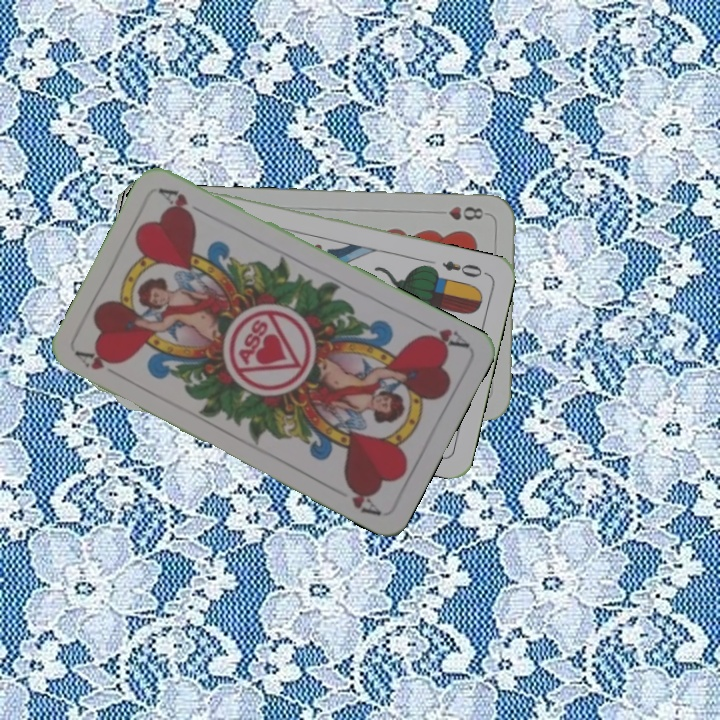EO: (438, 256, 490, 280)
H8: (445, 202, 486, 223)
HA: (416, 317, 471, 352), (72, 347, 127, 382)
